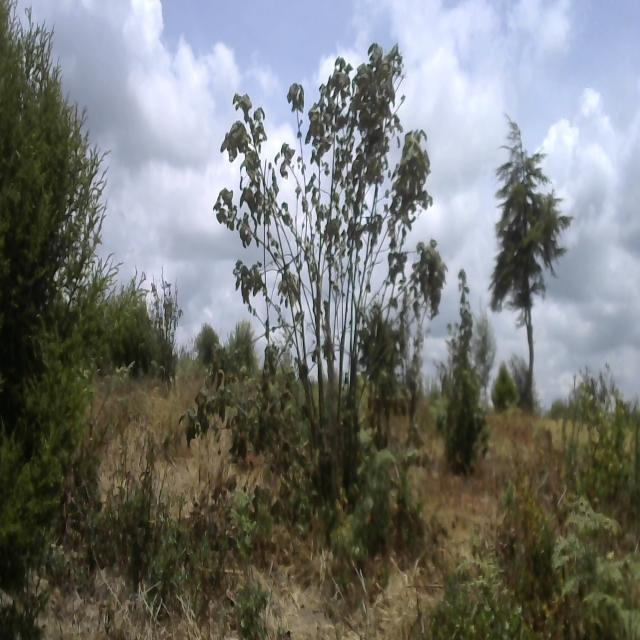Dombeya torrida: (213, 23, 450, 507)
Juniperus procesera: (0, 0, 117, 596), (488, 113, 574, 394)
